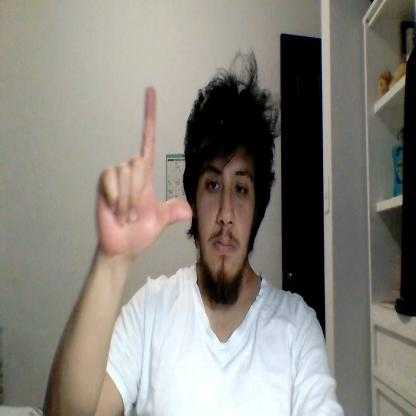L: (94, 87, 192, 258)
